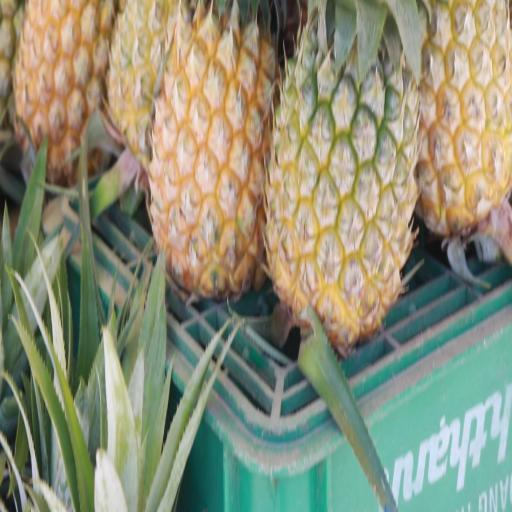------------------------------: (261, 0, 423, 357)
Pineapple - v8 v1: (144, 0, 278, 298), (390, 0, 512, 254), (10, 0, 119, 191)
